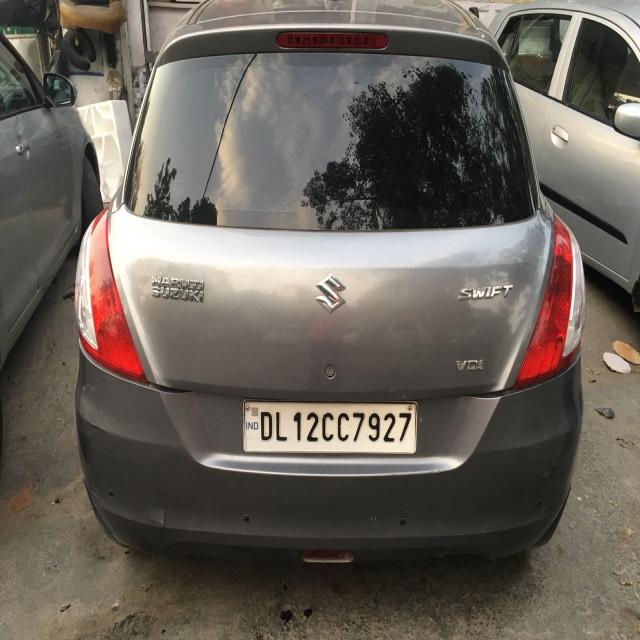Number-Plate: (246, 406, 417, 452)
